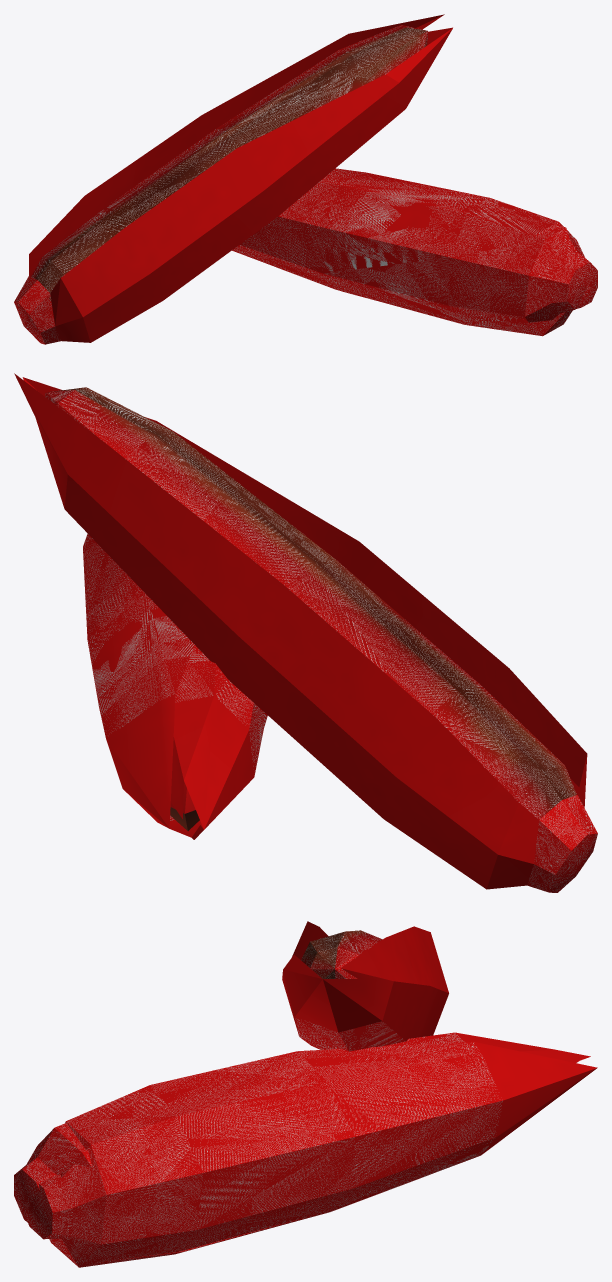
3 views of the same model, one above another, from view 1: azimuth 30°, elevation 25°; view 2: azimuth 150°, elevation 25°; view 3: azimuth 270°, elevation 25° (orthographic). The views are drawn at different scales.
Parts seen in each view (by area): view 1: skp1BE6 (×5); view 2: skp1BE6 (×7); view 3: skp1BE6 (×7).
Boxes of the visible parts, left/top/right/bottom form: skp1BE6 (×5): left=14, top=14, right=597, bottom=344; skp1BE6 (×7): left=14, top=373, right=597, bottom=892; skp1BE6 (×7): left=14, top=921, right=597, bottom=1267.
Size of the model in its own units: 87.95 by 80.64 by 47.27.
